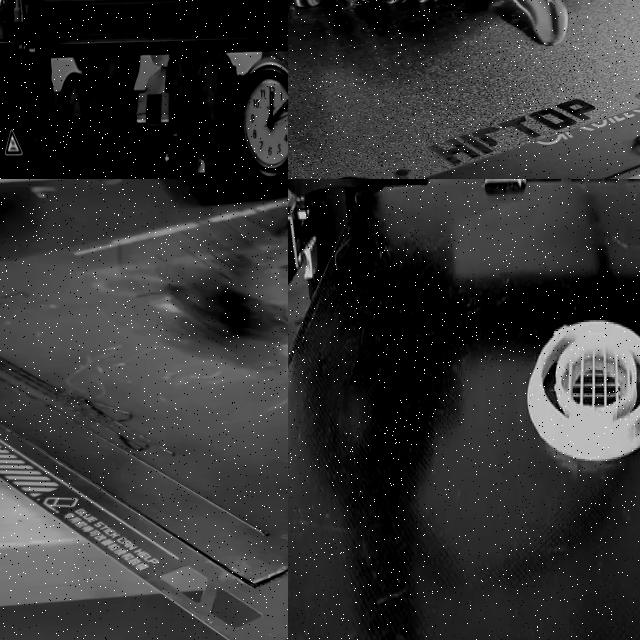spaghetti: (136, 179, 288, 315)
